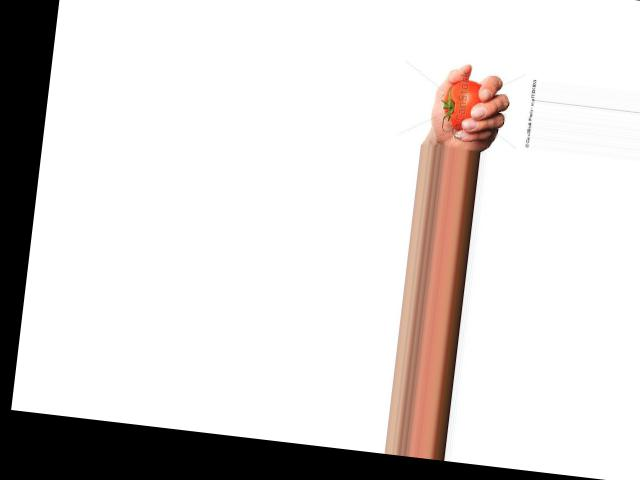tomato: (441, 77, 482, 132)
